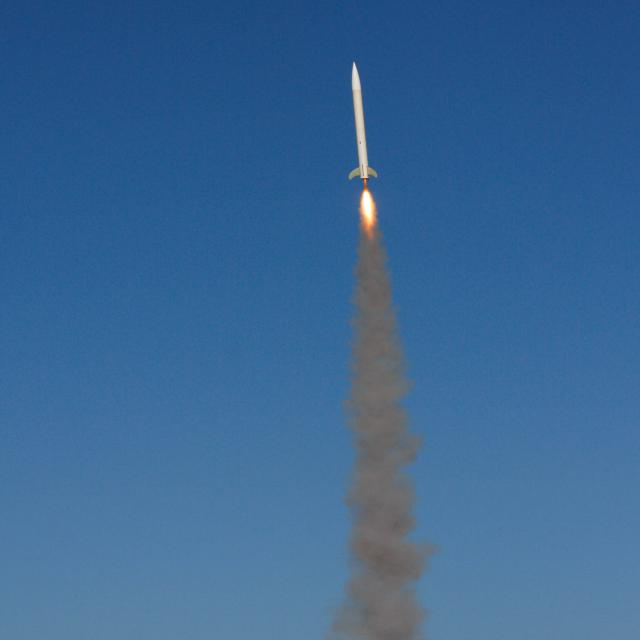Rocket: (348, 60, 378, 182)
